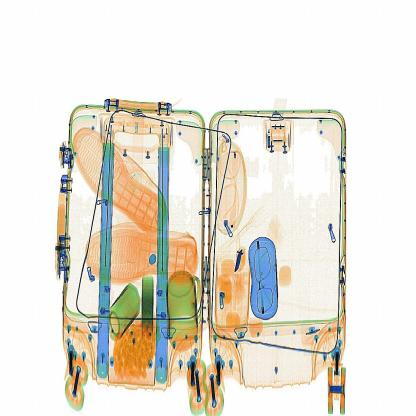wrench: (220, 236, 254, 272)
